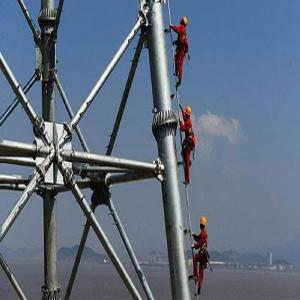yellow: (200, 213, 208, 232), (185, 103, 193, 120), (181, 15, 189, 29)
